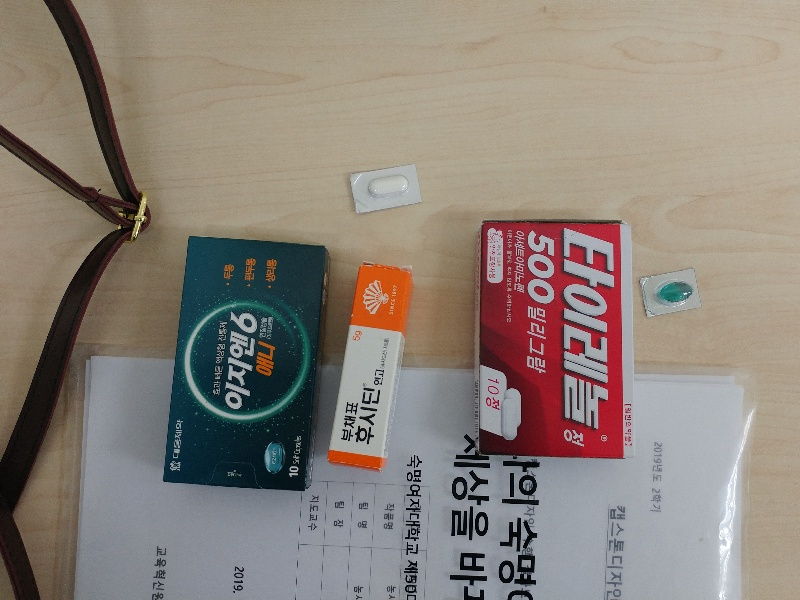ezn: (164, 236, 324, 492)
fucidin: (328, 266, 407, 470)
pill_ezn: (641, 266, 701, 316)
pill_tylenol: (351, 163, 422, 213)
tylenol: (479, 220, 634, 458)
